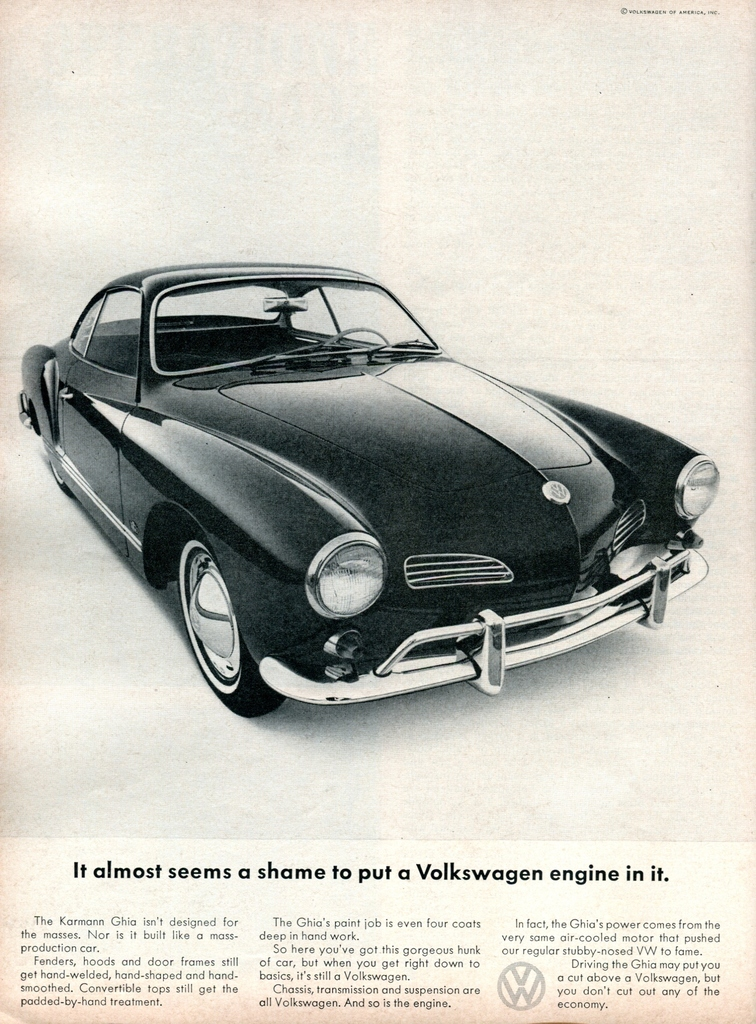Car: (17, 259, 716, 720)
